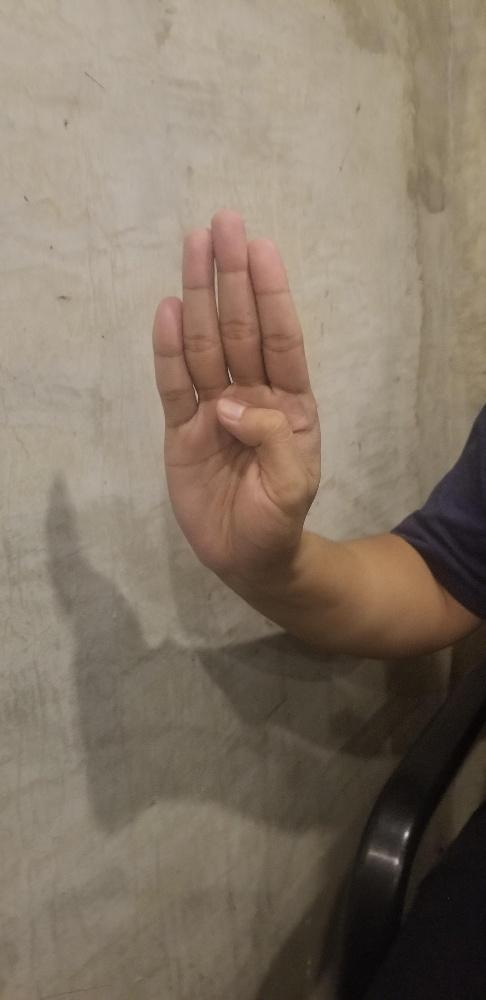b: (150, 206, 321, 571)
